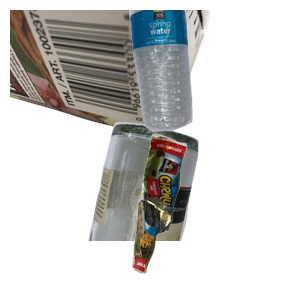cardboard: (10, 10, 213, 146)
glass: (86, 120, 277, 300)
plastic: (127, 10, 300, 134)
trash: (130, 131, 300, 300)
